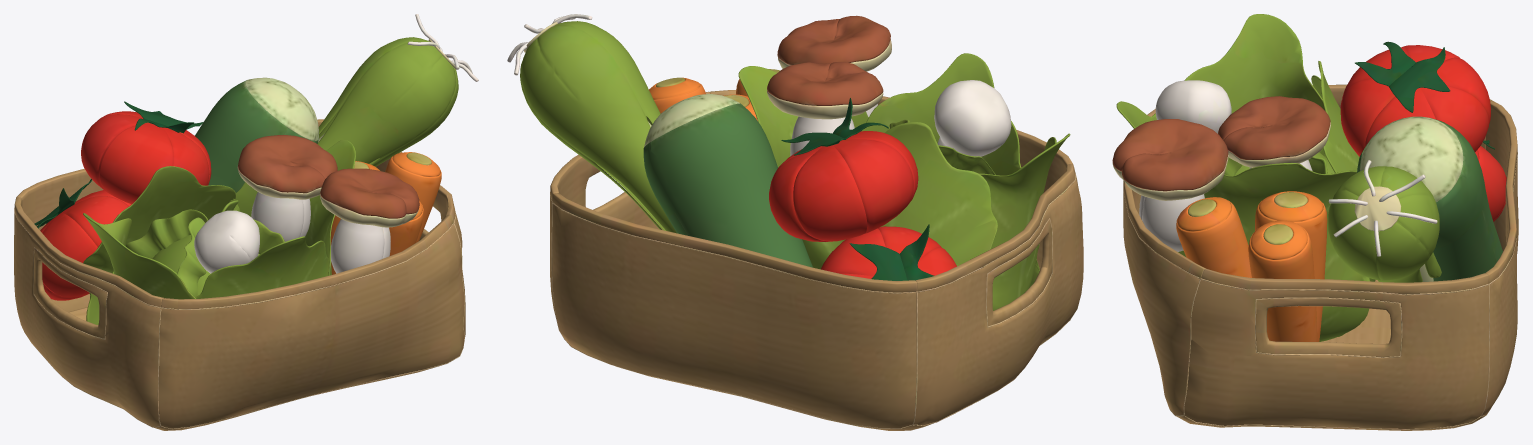
File: duktig_kosz_warzyw_14_szt_10185748.glb
3 views of the same model, side by side, from view 1: azimuth 30°, elevation 25°; view 2: azimuth 150°, elevation 25°; view 3: azimuth 270°, elevation 25° (orthographic). The views are drawn at different scales.
Parts seen in each view (by area): view 1: duktig_kosz_warzyw_14_szt_10185748; view 2: duktig_kosz_warzyw_14_szt_10185748; view 3: duktig_kosz_warzyw_14_szt_10185748.
Part boxes in pixels (left/top/right/bottom): duktig_kosz_warzyw_14_szt_10185748: left=14, top=14, right=478, bottom=430; duktig_kosz_warzyw_14_szt_10185748: left=507, top=14, right=1083, bottom=430; duktig_kosz_warzyw_14_szt_10185748: left=1112, top=14, right=1518, bottom=430.
Bounding box in the file's own units: 0.2446 × 0.1387 × 0.1734.
1 material, 1 textured.
